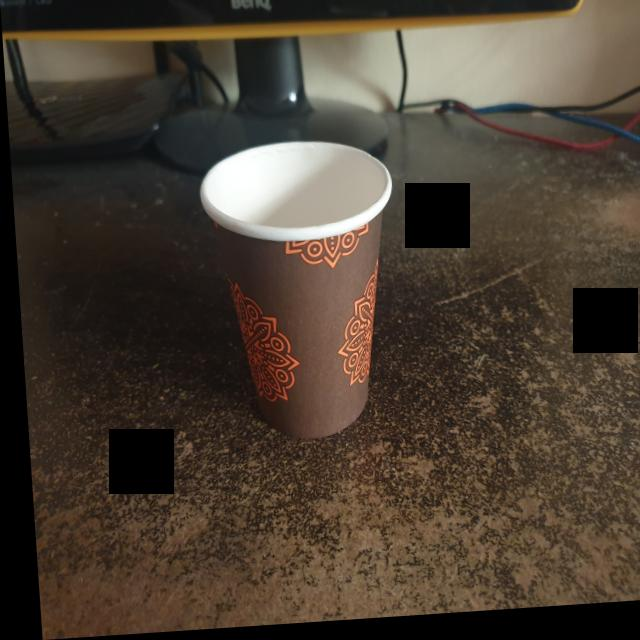cups: (188, 133, 409, 453)
